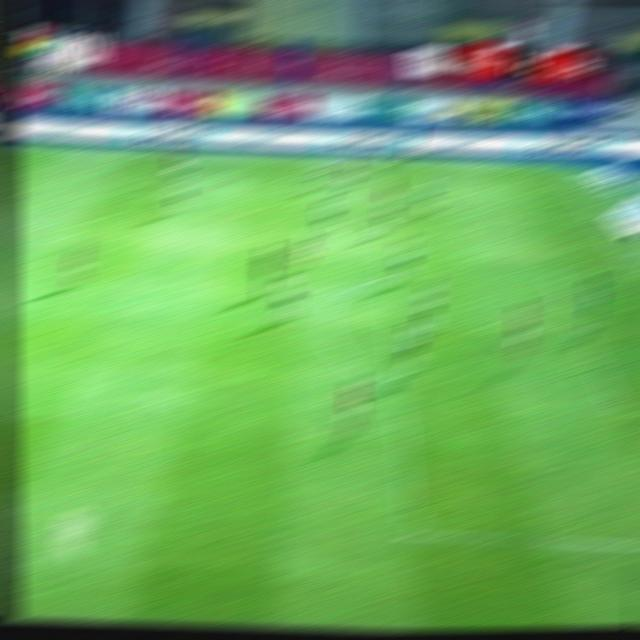bigarea_bottom_inner: (398, 519, 426, 547)
bigarea_top_outter: (584, 211, 610, 223)
bottom_arc_area_intersection: (382, 376, 411, 396)
corner: (552, 164, 571, 167)
smallarea_bottom_inner: (607, 398, 634, 423)
smallarea_top_inner: (543, 264, 563, 275)
smallarea_top_outter: (624, 264, 640, 277)
top_arc_area_intersection: (378, 268, 397, 278)
